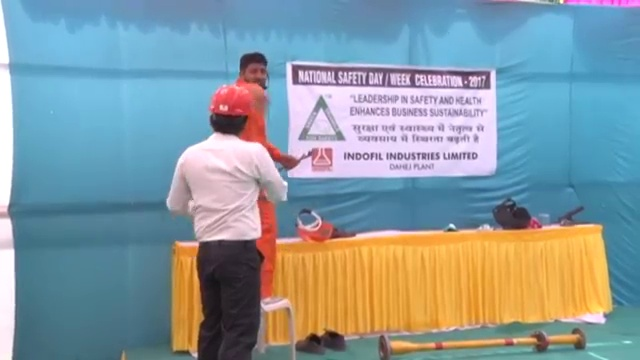helmet: (207, 83, 256, 117)
helmet_off: (236, 52, 268, 93)
helmet_on: (204, 82, 256, 138)
person: (163, 81, 286, 360), (214, 47, 304, 304)
